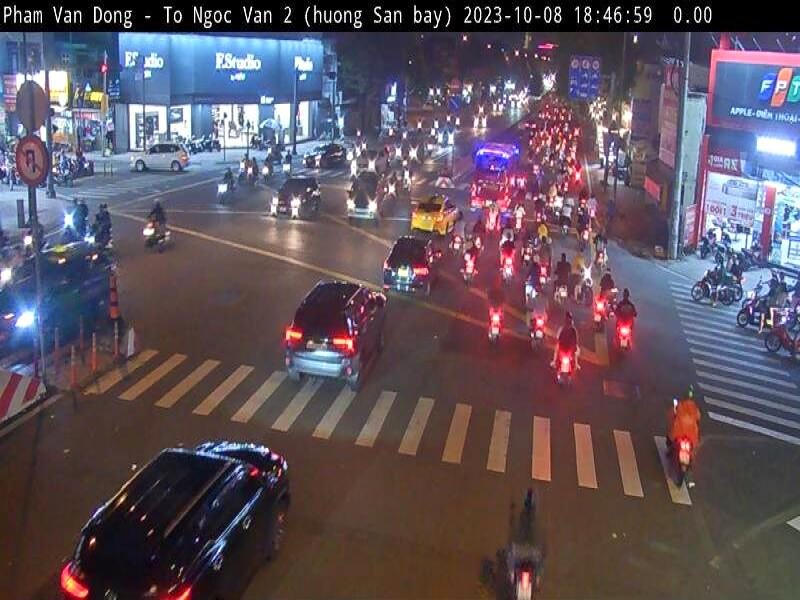car: (53, 437, 296, 600), (281, 276, 391, 382), (377, 240, 435, 296), (272, 172, 324, 221), (352, 170, 382, 225), (410, 198, 458, 231)
motorcycle: (668, 429, 696, 492), (505, 555, 542, 598), (553, 348, 577, 392), (610, 326, 638, 361), (140, 222, 172, 252), (485, 307, 505, 346), (530, 318, 548, 356)
